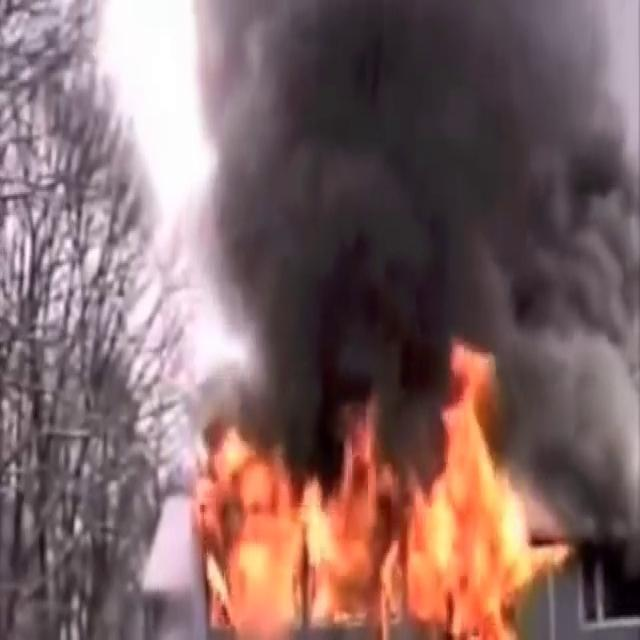Fire: (193, 348, 554, 639)
Smoke: (150, 0, 640, 480)
